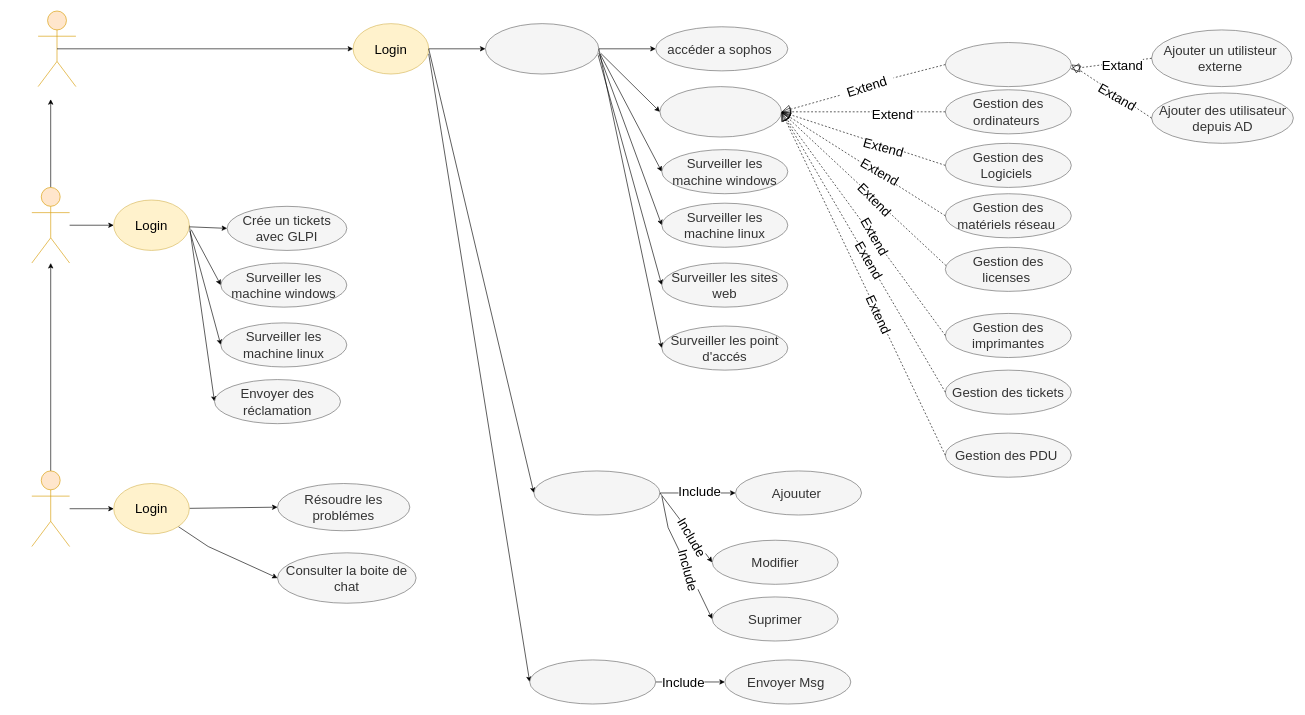
Some shapes in this 1305 by 715 pixel diagram are drawn without their labels. Each missing label, with the centre of its shape:
Accéder a des dashboard: pixel 542 48
Accéder à GLPI: pixel 720 111
Admin: pixel 56 48
Ajouter des utilisteurs: pixel 1008 64
Développeur: pixel 50 508
Gérer les réclamations: pixel 592 681
Gérer les utilisateurs: pixel 596 492
Utilisateur: pixel 50 225
